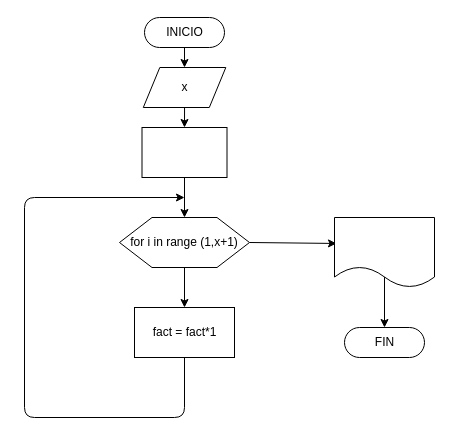
The diagram is 452 pixels wide and 443 high, and some of its shapes have lost their labels. The centre of each missing label's shape, as x and y in pixels:
"fact = 1" belongs at (184,152).
"x fact" belongs at (384,252).
